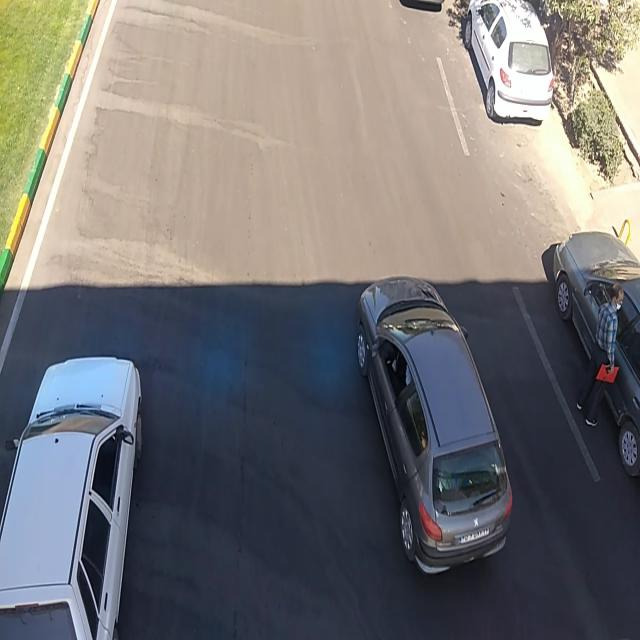car: (356, 281, 512, 579), (3, 353, 141, 634), (550, 228, 636, 477), (460, 1, 554, 126)
